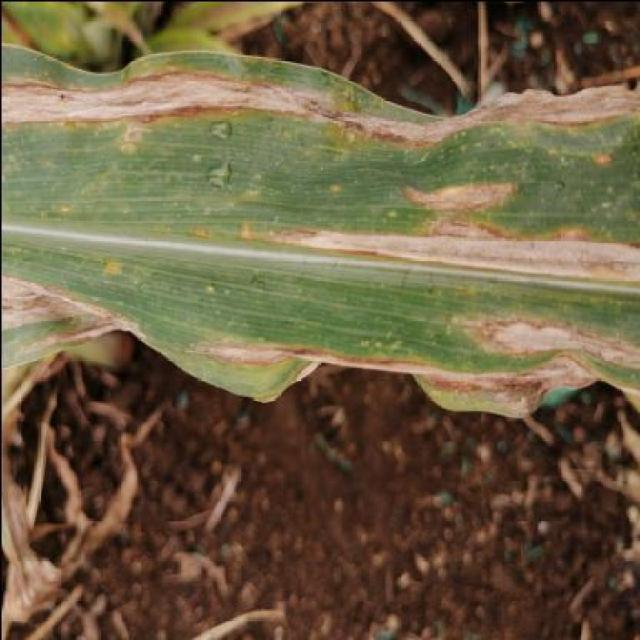Corn_Leaf_Blight: (0, 43, 640, 415)
